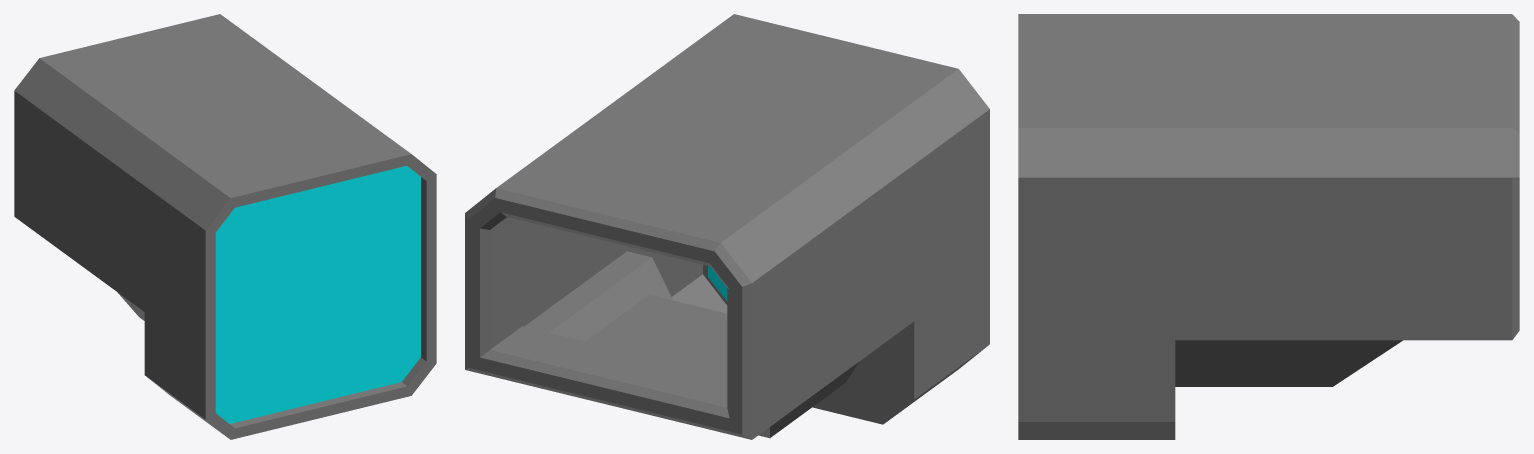
File: TrooperBody.fbx
The picture shows the model from 3 angles, left to right: view 1: azimuth 30°, elevation 25°; view 2: azimuth 150°, elevation 25°; view 3: azimuth 270°, elevation 25°; orthographic projection. The views are drawn at different scales.
Parts seen in each view (by area): view 1: Body, Face; view 2: Body; view 3: Body.
Part boxes in pixels (left/top/right/bottom): Body: left=14, top=14, right=436, bottom=439; Face: left=215, top=166, right=420, bottom=423; Body: left=465, top=14, right=989, bottom=439; Body: left=1018, top=14, right=1519, bottom=439.
Size of the model in its own units: 58.42 by 58.42 by 85.09.
